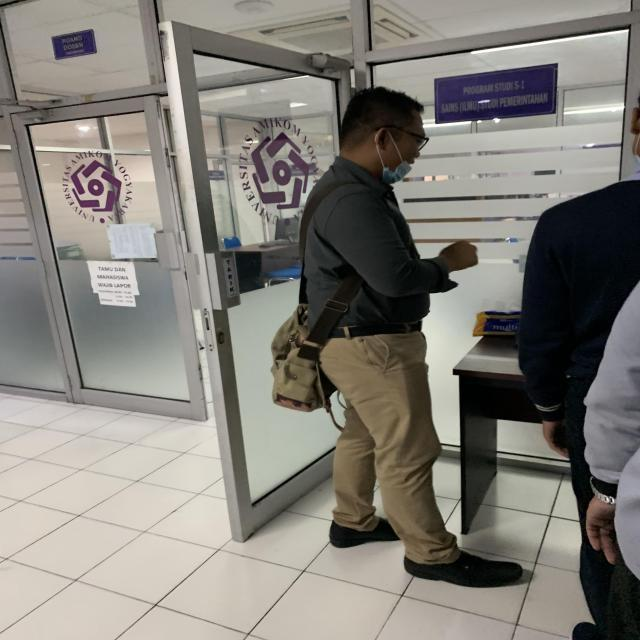hairnet: (328, 80, 431, 186)
